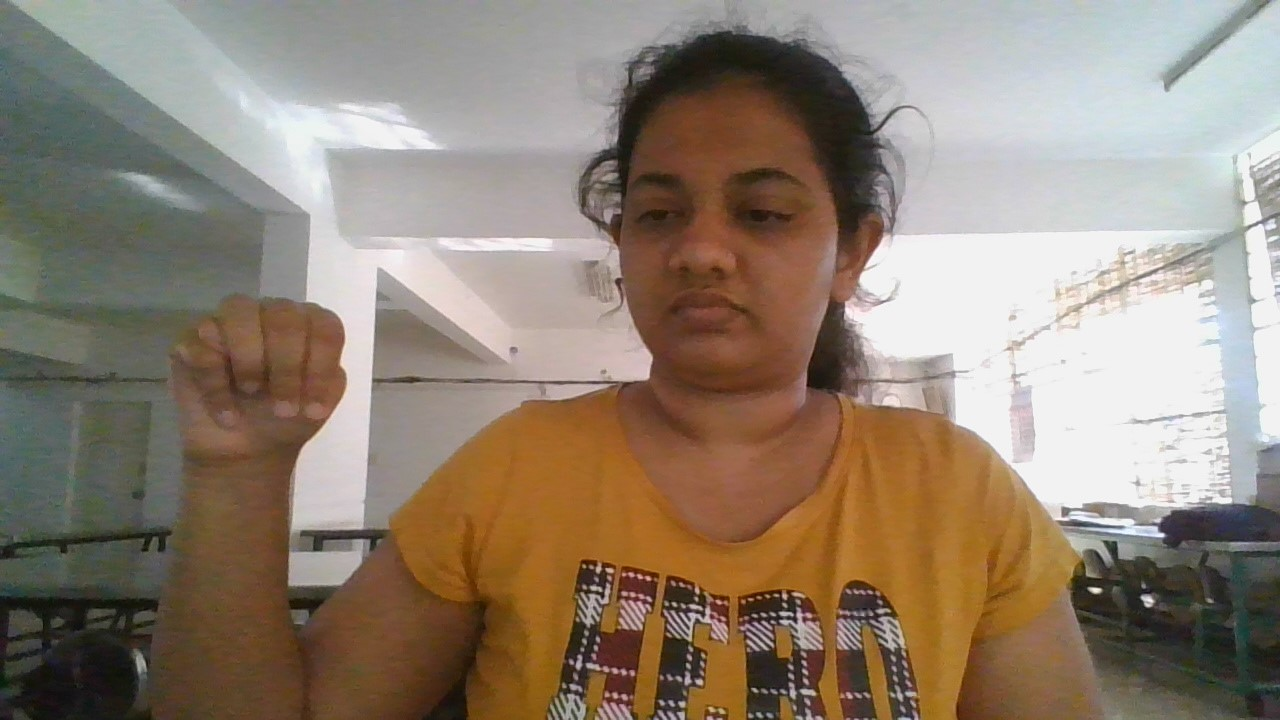m: (151, 283, 362, 495)
